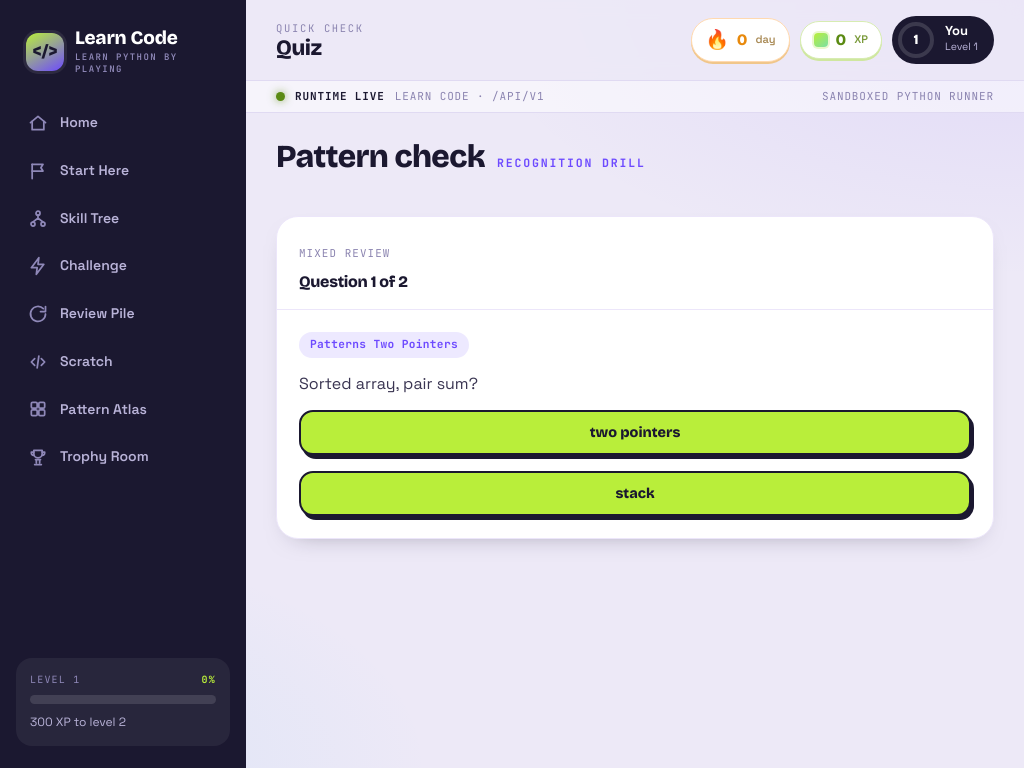
it: QuizRoute › walks the questions and shows a summary
Expected: the text "Sorted array, pair sum?" is shown, left=299, top=373, right=478, bottom=394
What coordinates should you click on to do the following:
click the button "two pointers"
I would click on:
 (635, 432)
Its box is left=299, top=410, right=971, bottom=455.
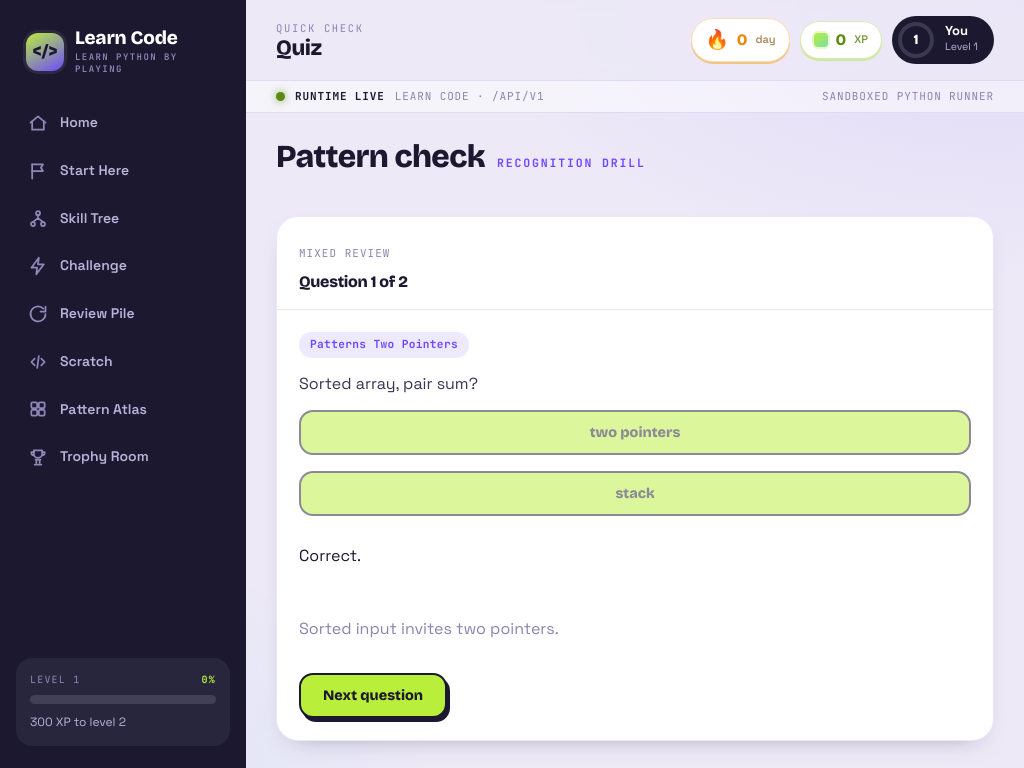
Expected: the text "Sorted input invites two pointers." is shown, left=299, top=618, right=559, bottom=638
What coordinates should you click on to do the following:
click the button "Next question"
I would click on:
 (373, 696)
Its box is left=299, top=673, right=447, bottom=718.
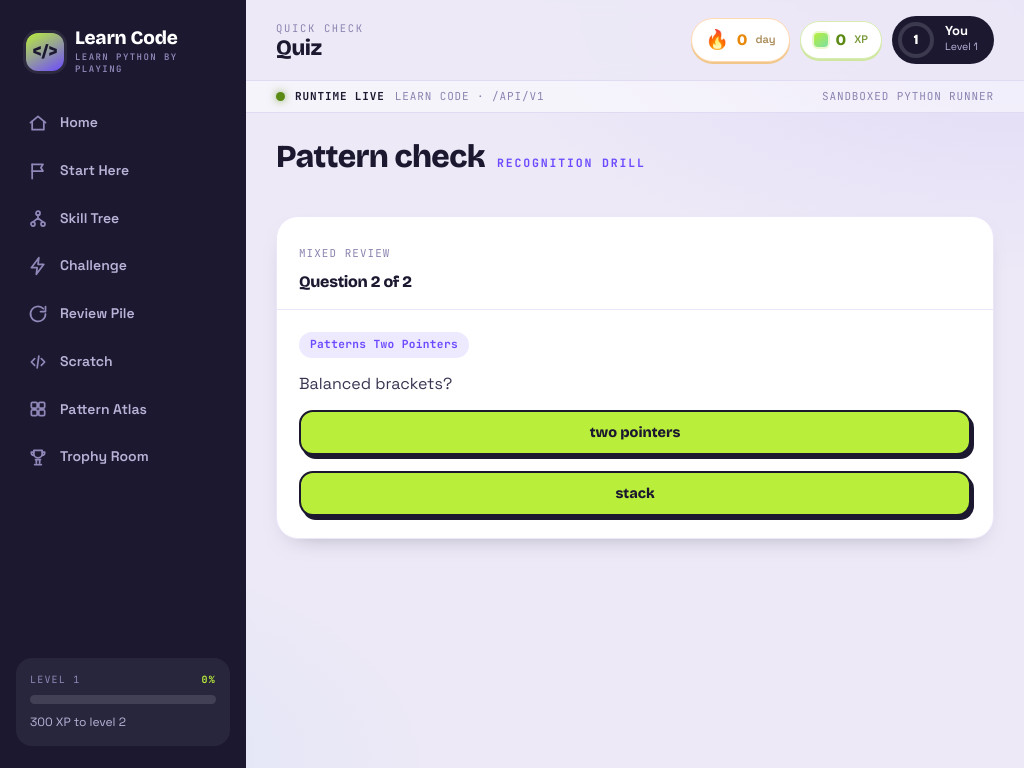
Expected: the text "Balanced brackets?" is shown, left=299, top=373, right=452, bottom=394
What coordinates should you click on to do the following:
click the button "two pointers"
I would click on:
 (635, 432)
Its box is left=299, top=410, right=971, bottom=455.
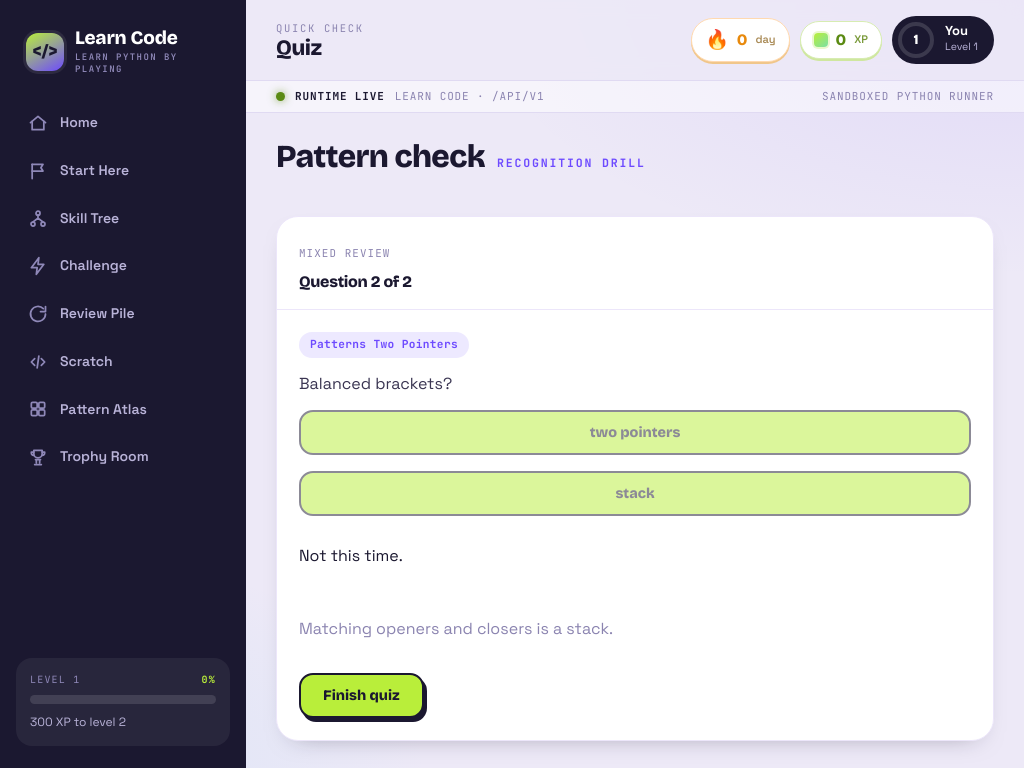
Expected: the text "Matching openers and closers is a stack." is shown, left=299, top=618, right=613, bottom=638
What coordinates should you click on to do the following:
click the button "Finish quiz"
I would click on:
 (361, 696)
Its box is left=299, top=673, right=424, bottom=718.
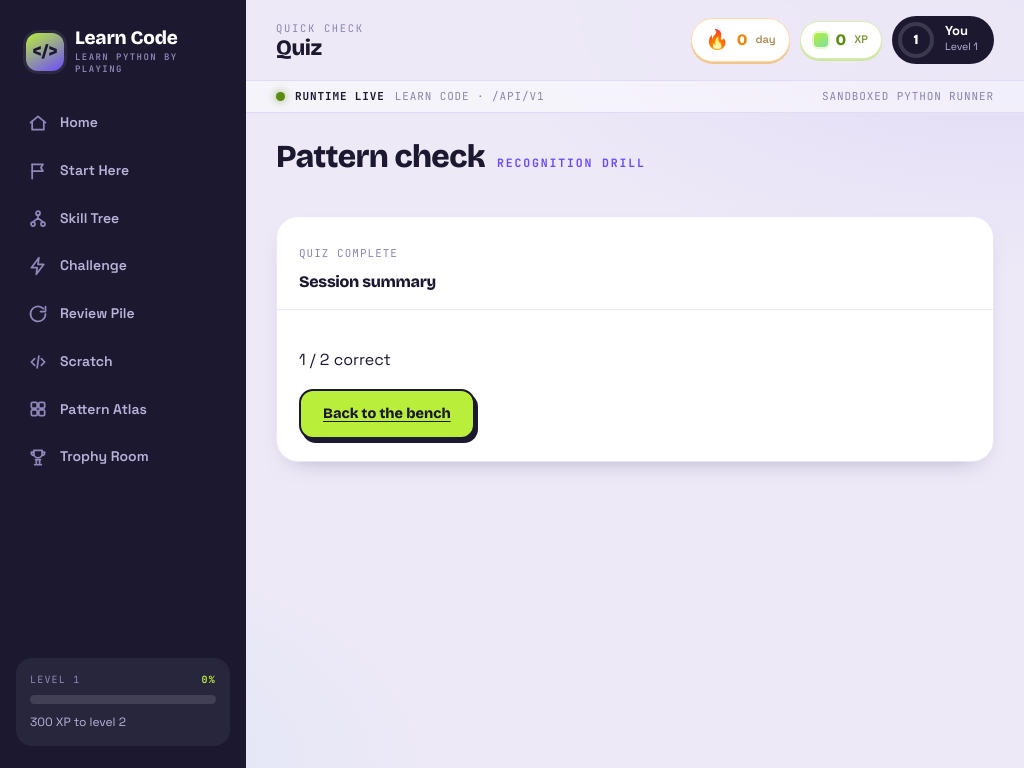
Expected: the text "1 / 2 correct" is shown, left=299, top=349, right=391, bottom=370
